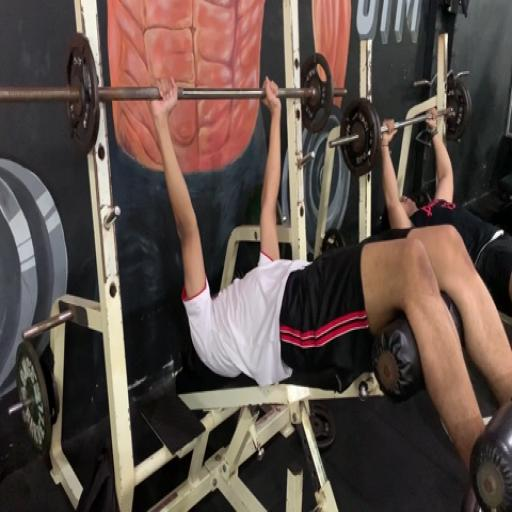exercise: (145, 72, 511, 510)
